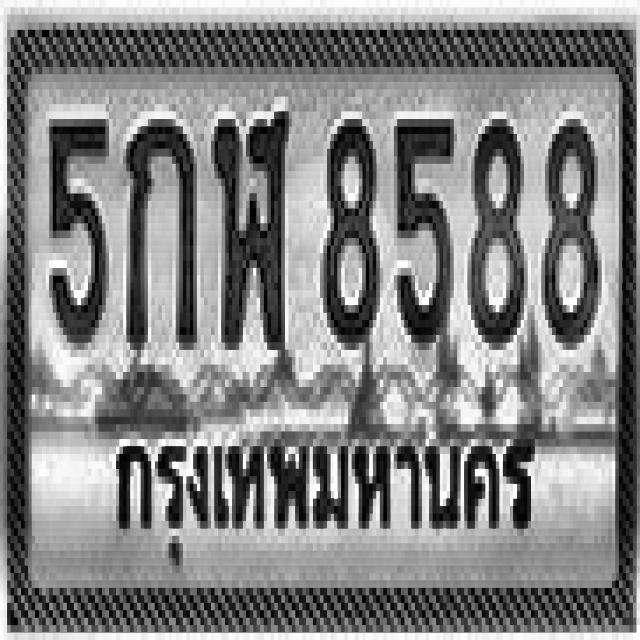license-plate: (9, 25, 636, 628)
